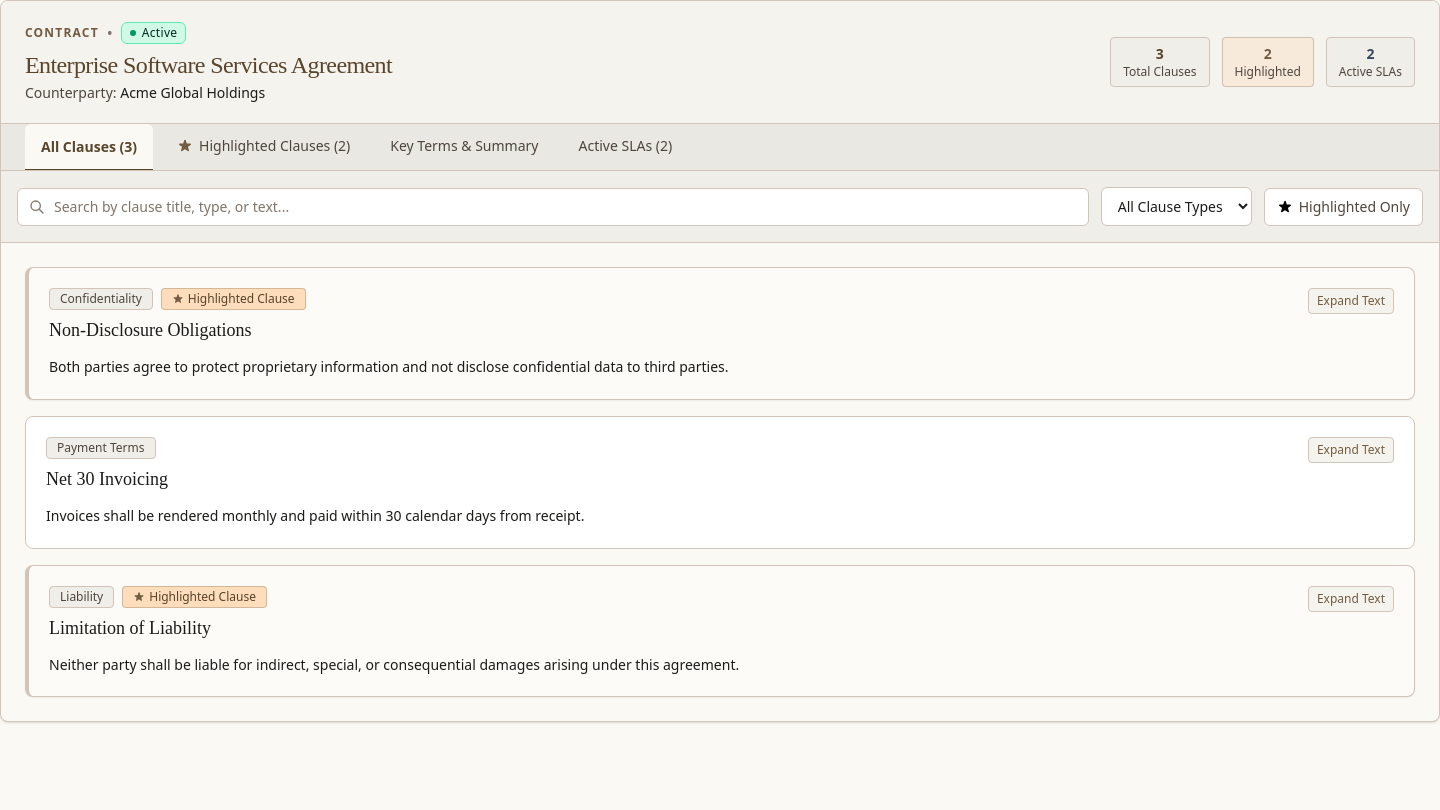
Test case: ClauseViewer Component › switches to Highlighted Clauses tab
Step 1. Click the tab with test id "tab-highlighted-clauses" → x=264, y=147, box left=161, top=124, right=366, bottom=170
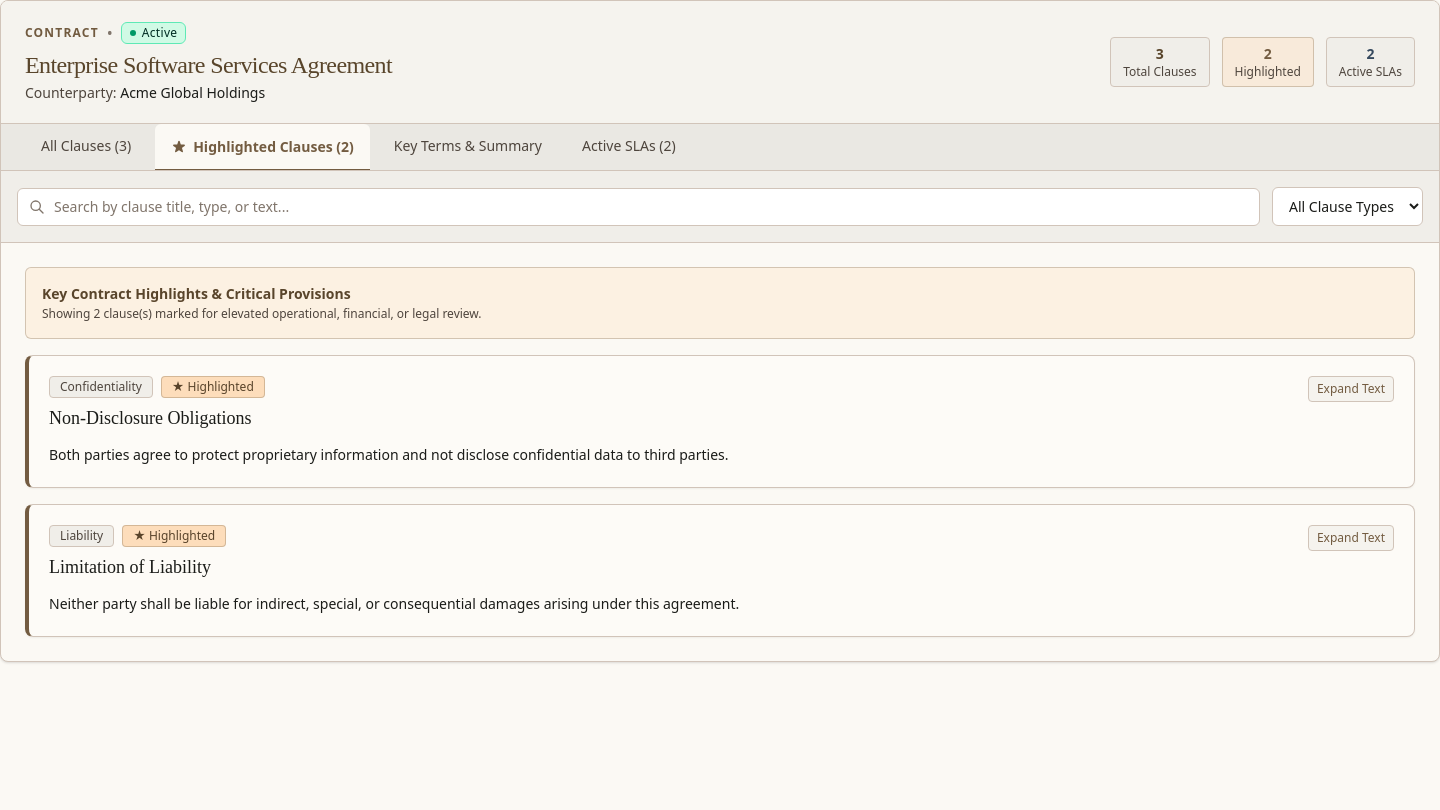
expect the heading "Non-Disclosure Obligations" is shown: met, box left=49, top=404, right=265, bottom=432
expect the panel with test id "panel-highlighted-clauses" is shown: met, box left=25, top=267, right=1415, bottom=636
expect the heading "Net 30 Invoicing" is gone: met
